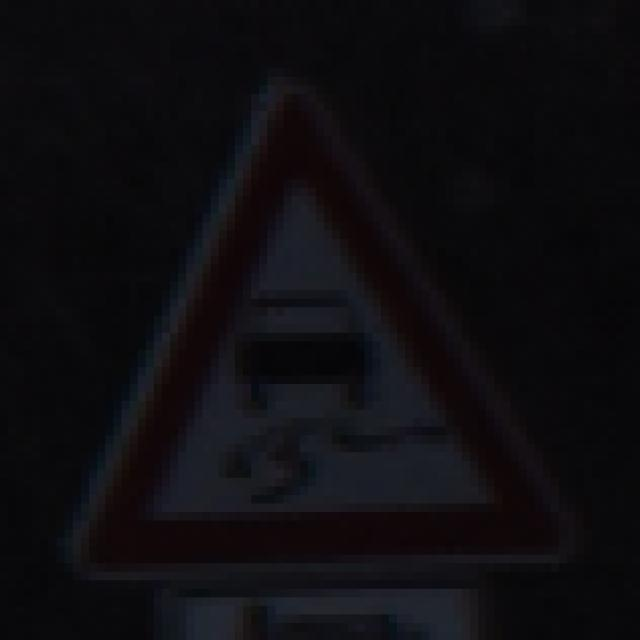slippery road: (66, 67, 583, 578)
